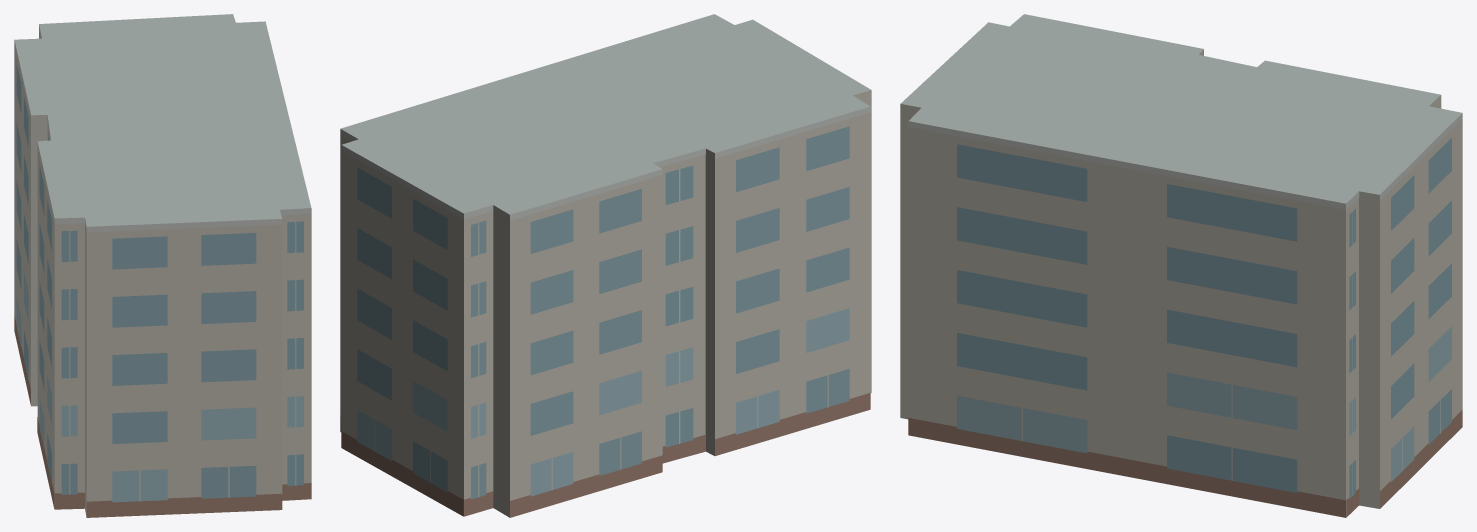
The model's file is survey-upis-32672098.glb.
3 renders of one model, left to right at view 1: azimuth 30°, elevation 25°; view 2: azimuth 150°, elevation 25°; view 3: azimuth 270°, elevation 25°, orthographic. The views are drawn at different scales.
Visible parts, largest first — view 1: survey-upis-32672098.tmp; view 2: survey-upis-32672098.tmp; view 3: survey-upis-32672098.tmp.
Boxes of the visible parts, bbox=[...] form: survey-upis-32672098.tmp: bbox=[14, 14, 311, 517]; survey-upis-32672098.tmp: bbox=[340, 14, 871, 517]; survey-upis-32672098.tmp: bbox=[900, 14, 1462, 517].
Size of the model in its own units: 16.33 by 12.6 by 20.44.
